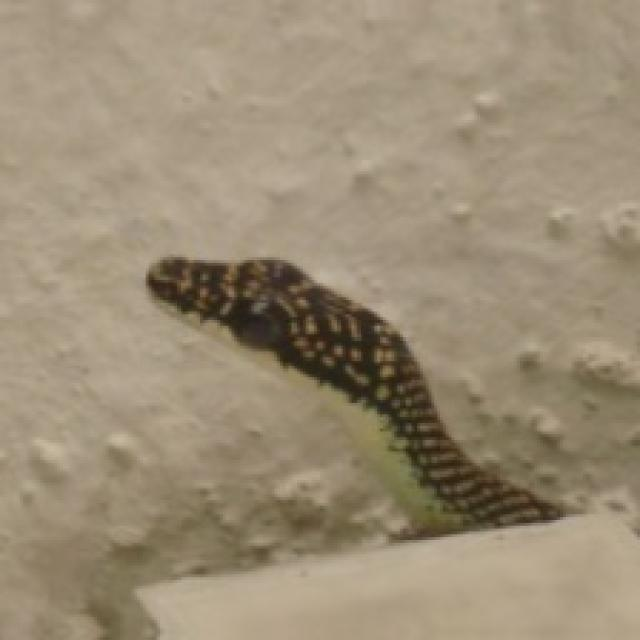paradise tree snake: (147, 260, 564, 537)
